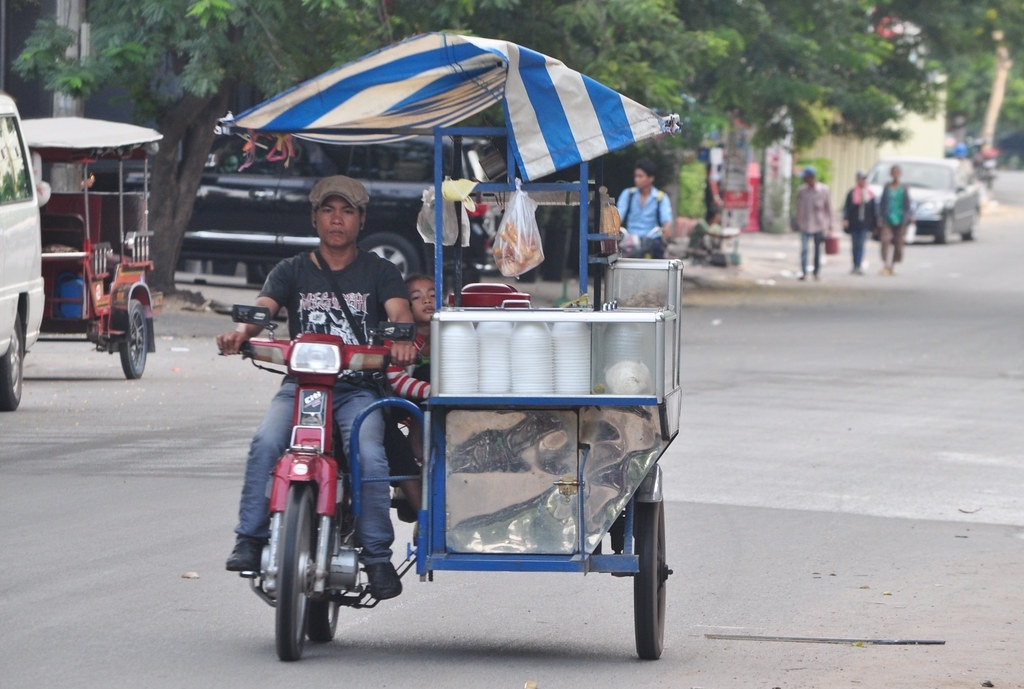gerobak: (225, 33, 681, 657)
